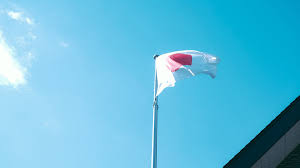Japanese Flag: (153, 50, 222, 105)
